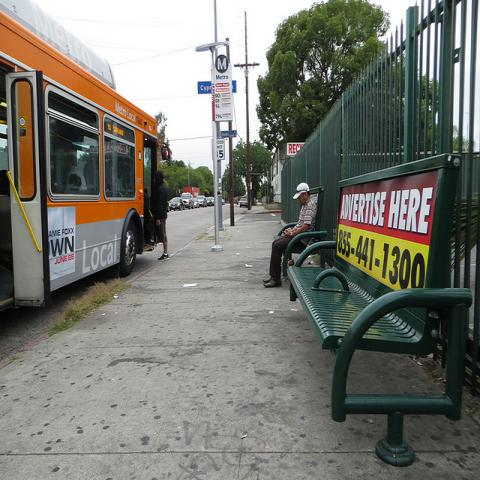bus: (4, 9, 168, 321)
car: (181, 192, 194, 210), (169, 198, 184, 211), (196, 196, 207, 207), (240, 198, 248, 208), (203, 198, 212, 206), (207, 197, 215, 206), (194, 198, 200, 209), (234, 197, 237, 204), (222, 198, 225, 205)
